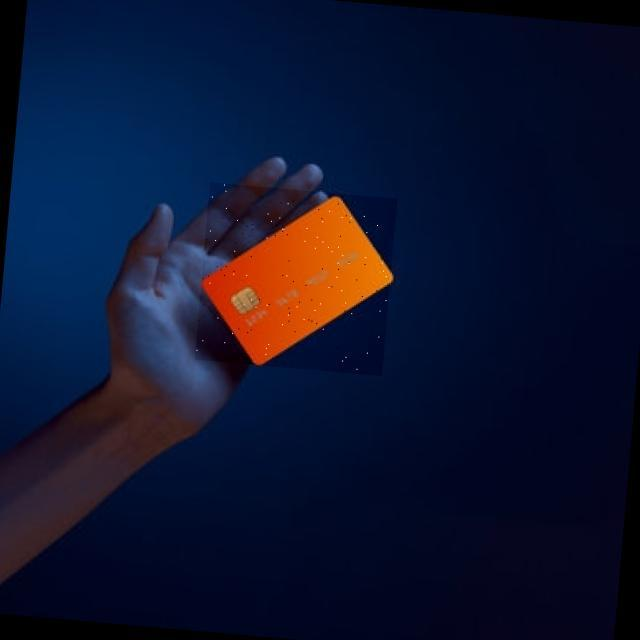payment_card: (199, 192, 394, 367)
